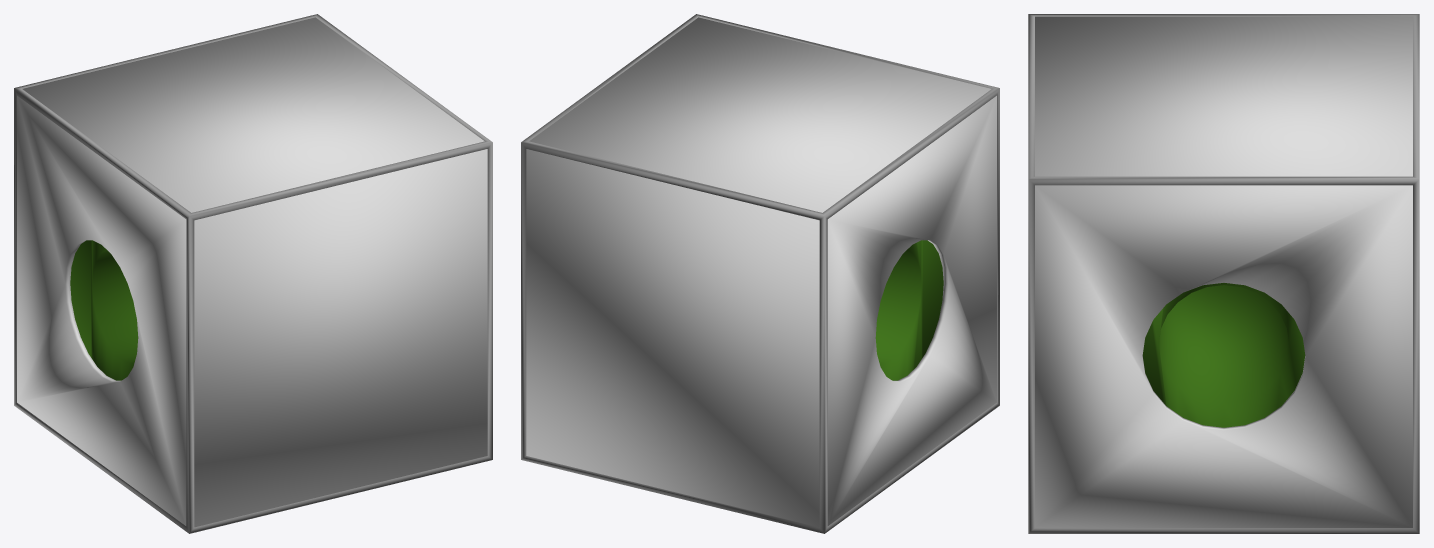
Rendered from pump_green.dae.
3 renders of one model, left to right at view 1: azimuth 30°, elevation 25°; view 2: azimuth 150°, elevation 25°; view 3: azimuth 270°, elevation 25°, orthographic. The views are drawn at different scales.
Visible parts, largest first — view 1: pump_enclosure; view 2: pump_enclosure; view 3: pump_enclosure.
Boxes of the visible parts, left/top/right/bottom form: pump_enclosure: left=14, top=14, right=492, bottom=533; pump_enclosure: left=521, top=14, right=999, bottom=533; pump_enclosure: left=1028, top=14, right=1419, bottom=533.
Size of the model in its own units: 0.12 by 0.12 by 0.12.
